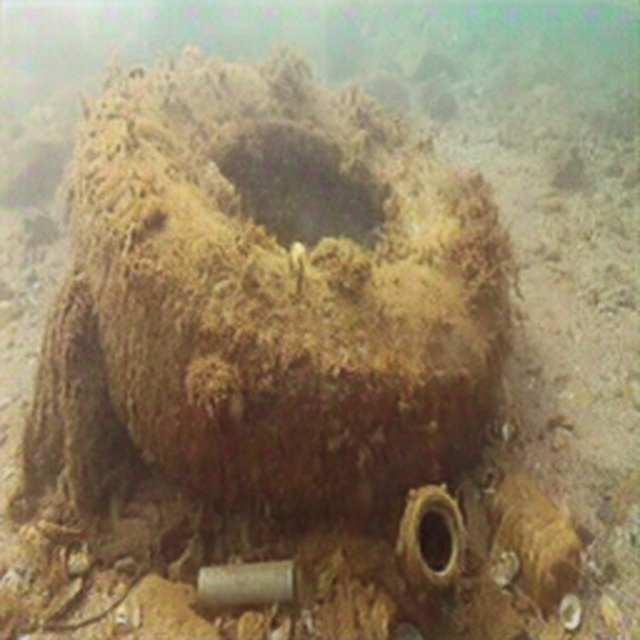mine: (76, 62, 509, 496)
